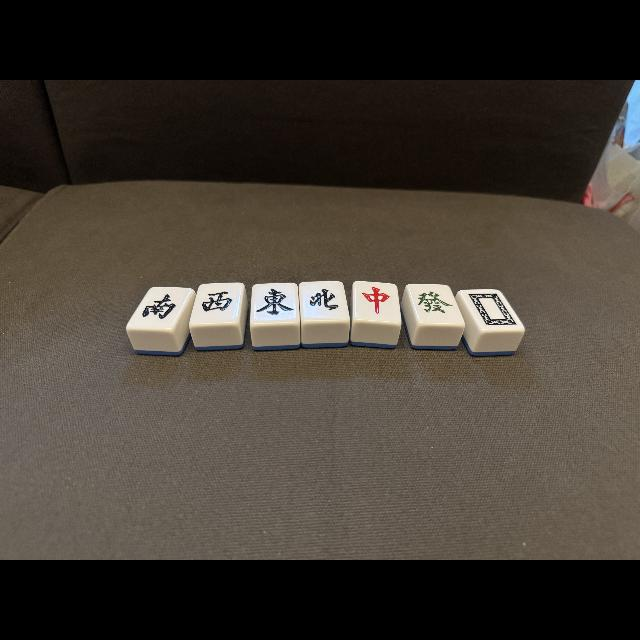dg: (412, 286, 458, 322)
dr: (355, 282, 399, 320)
dw: (469, 290, 516, 330)
we: (252, 284, 298, 322)
wn: (302, 282, 346, 320)
ws: (135, 286, 183, 328)
ww: (193, 284, 241, 324)
